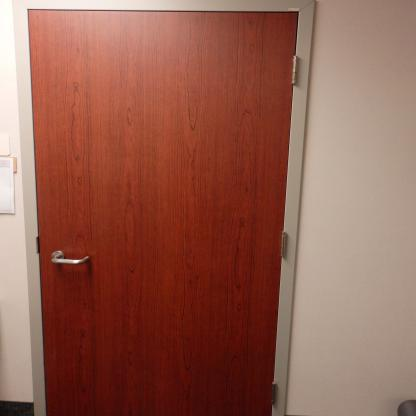door: (23, 13, 302, 415)
hinged: (288, 56, 300, 87), (279, 233, 289, 260), (272, 382, 279, 406)
lever: (50, 249, 92, 271)
